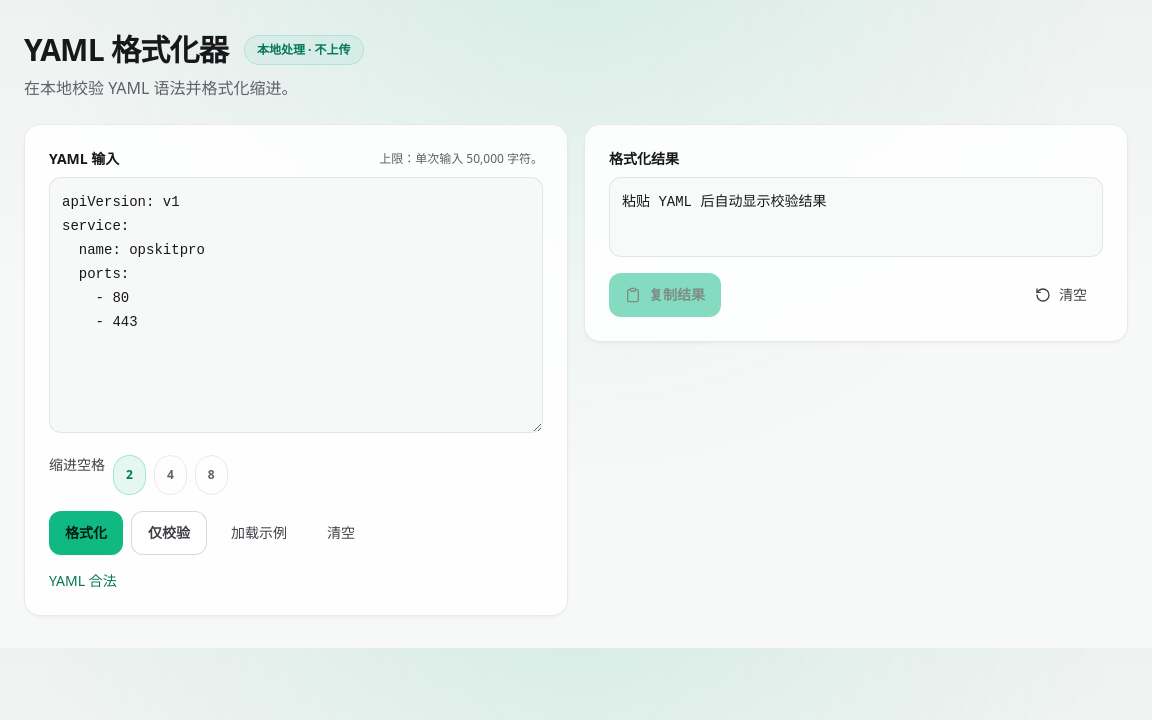
Test: YamlClient › clears input and output state
This screenshot has width=1152, height=720.
Replace the text in the text box with placeholder "在此粘贴 YAML…" with "a: 1" at (296, 305), box [49,177,543,433]
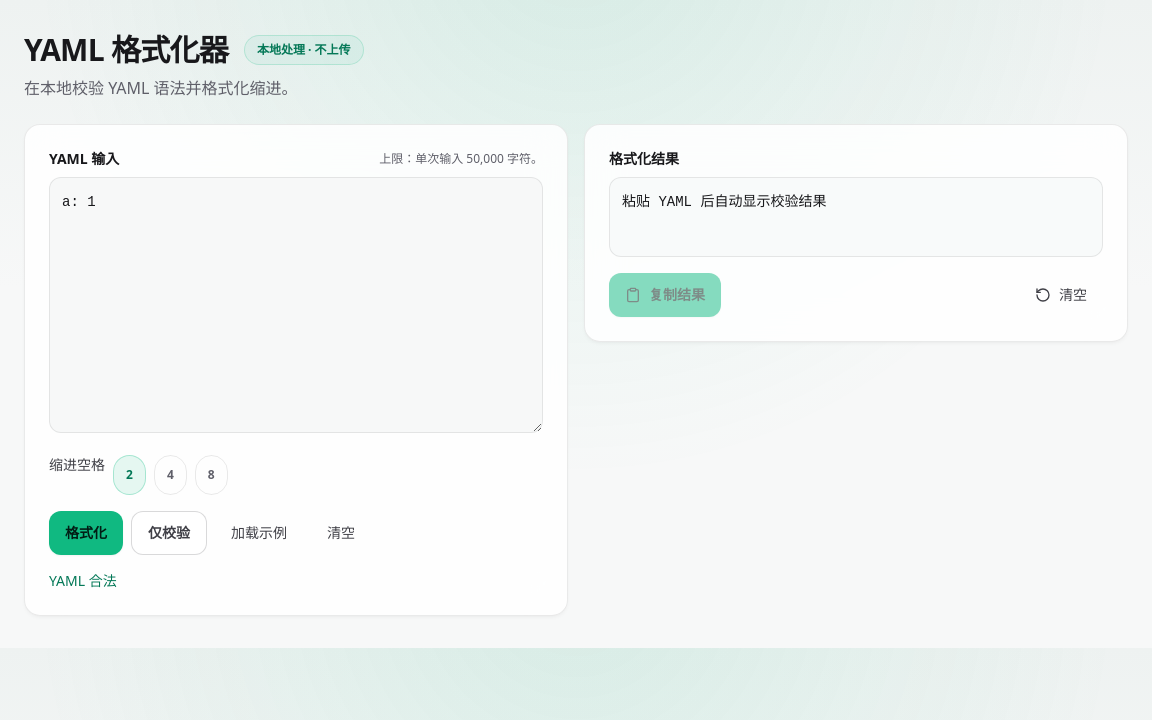
Click the button "格式化".
click(86, 533)  # box [49,511,123,555]
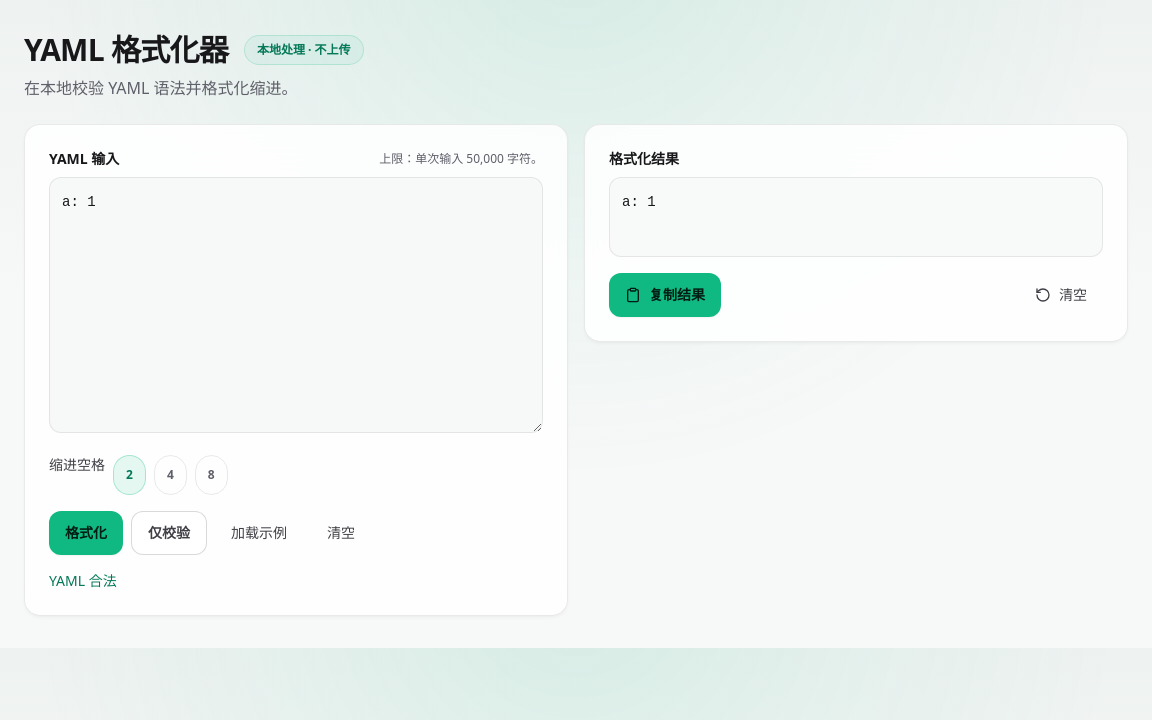
Click the button "清空" below "缩进空格".
click(341, 533)  # box [311,511,371,555]
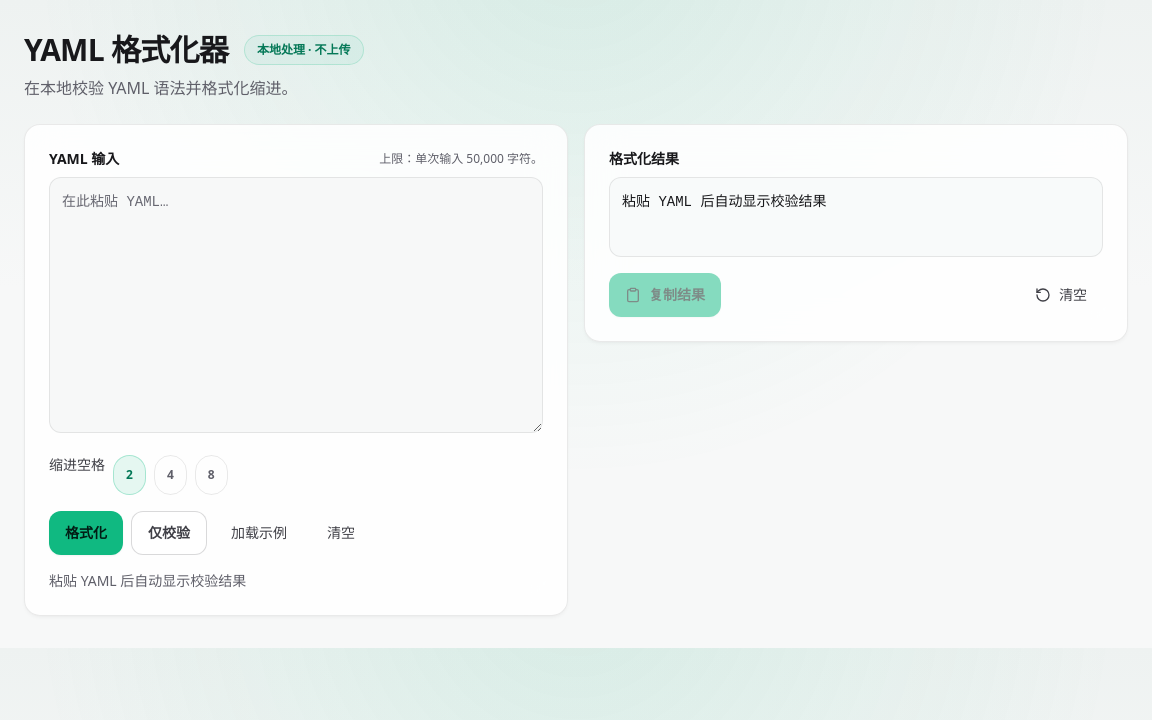
Check: the text "粘贴 YAML 后自动显示校验结果" is shown 2 times, box [49,571,246,590]; [609,177,1103,257]
Check: the text box with placeholder "在此粘贴 YAML…" is empty, box [49,177,543,433]
